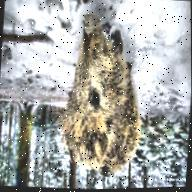boar: (51, 16, 148, 178)
